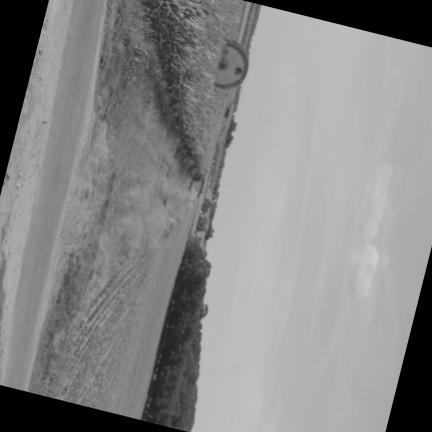Shahed: (258, 113, 261, 120)
